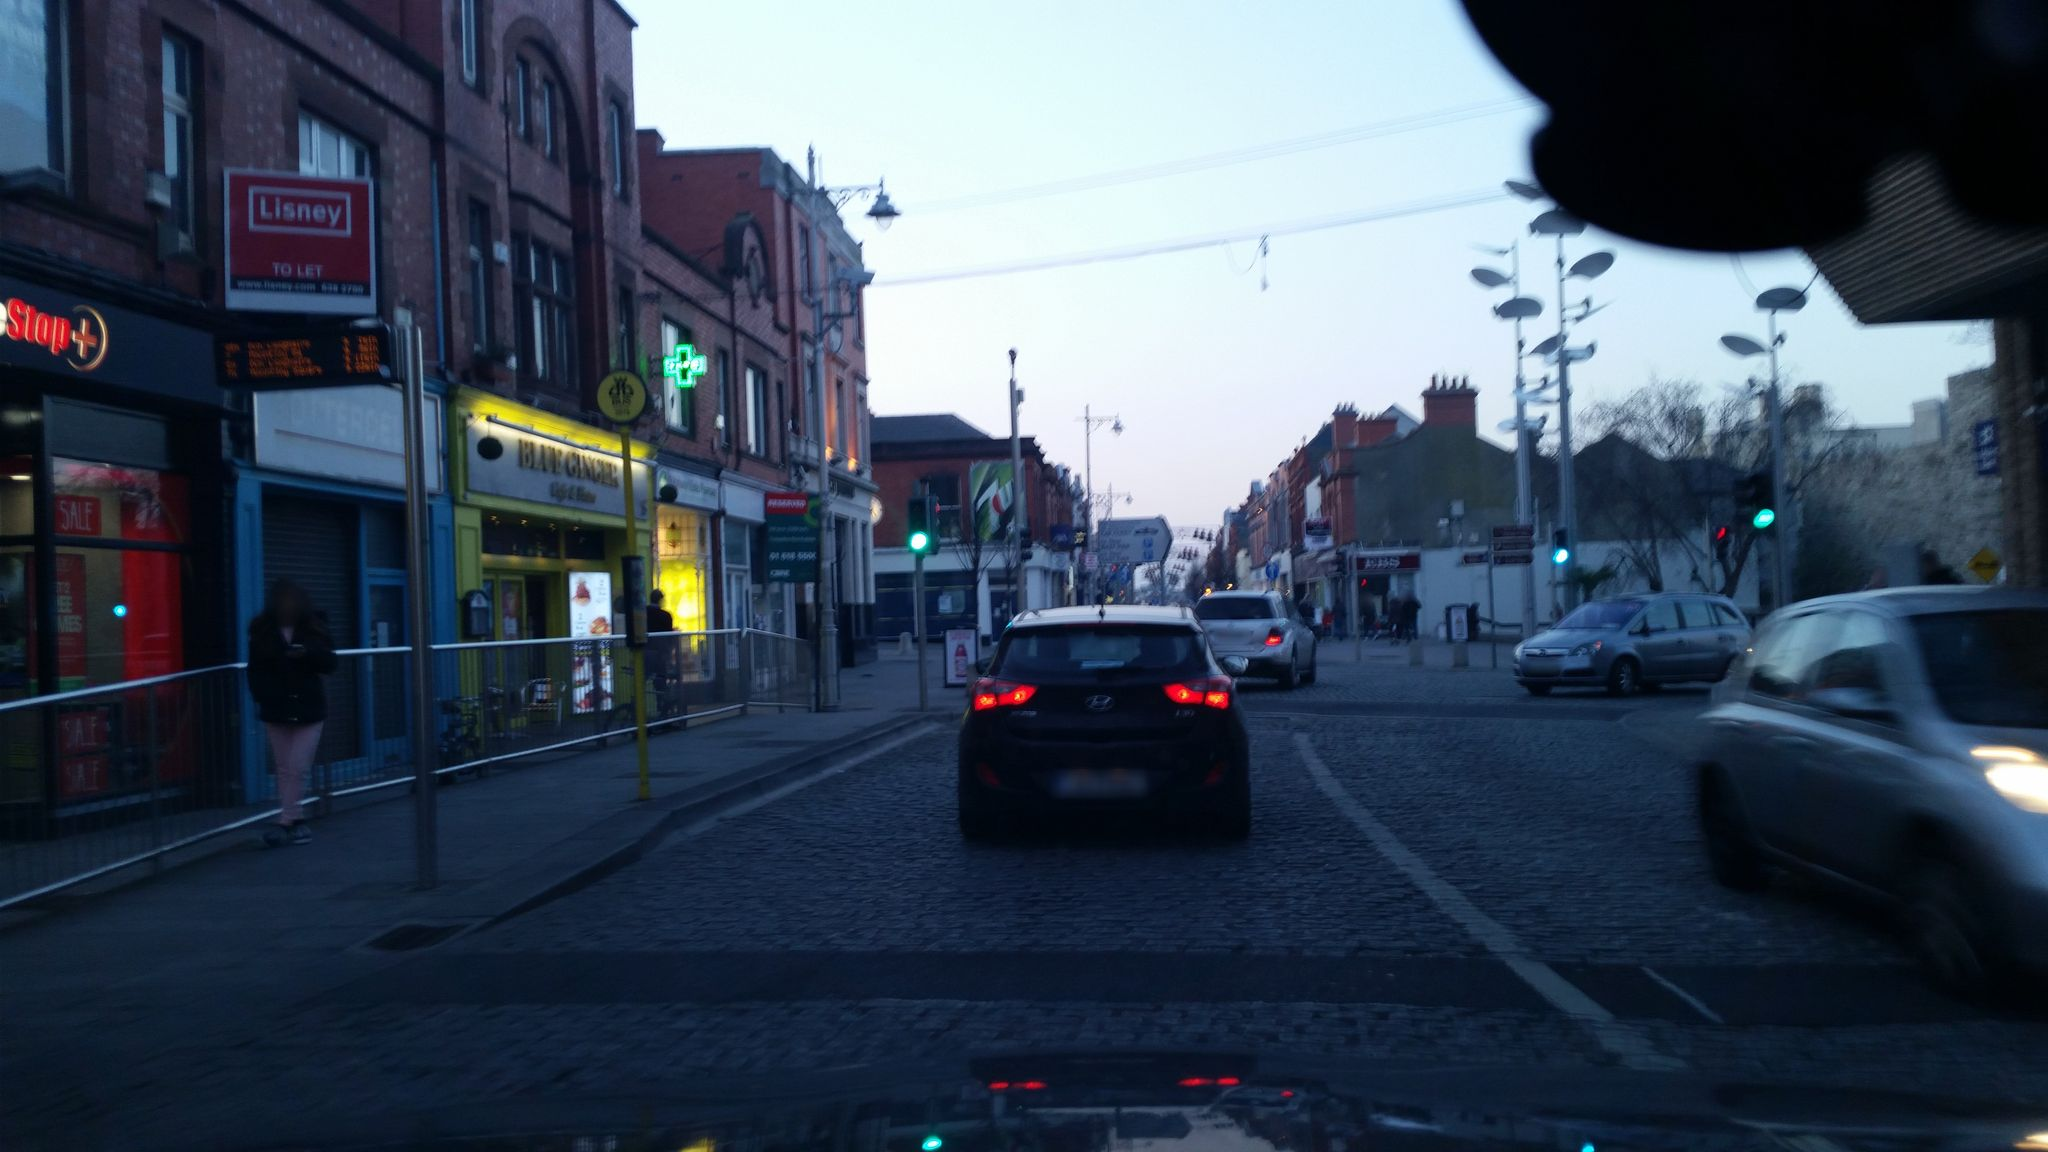property sign: (193, 148, 399, 338), (748, 480, 828, 582)
